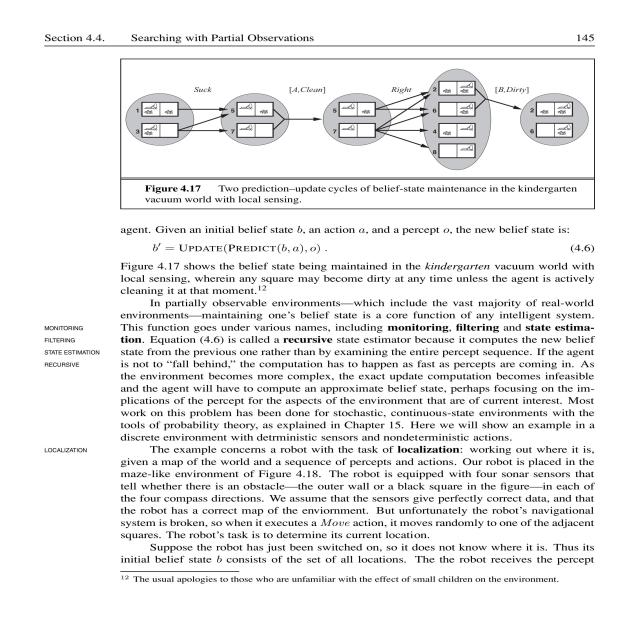diagram: (123, 55, 615, 216)
